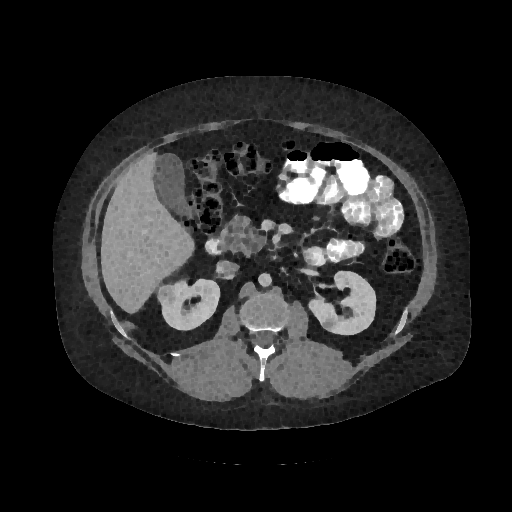Lesion: (319, 315, 340, 334)
